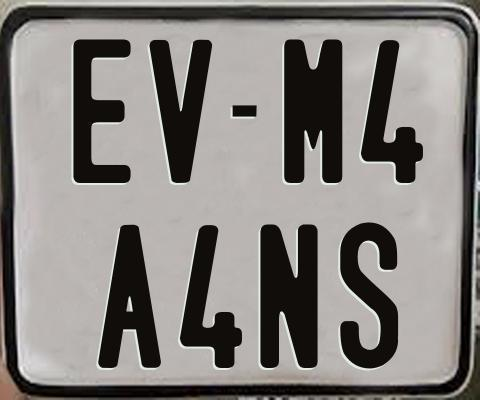4: (177, 225, 245, 371), (359, 40, 425, 189)
A: (96, 224, 161, 373)
E: (72, 36, 130, 181)
M: (282, 38, 341, 182)
N: (260, 224, 322, 370)
S: (338, 219, 399, 368)
V: (146, 37, 215, 182)
